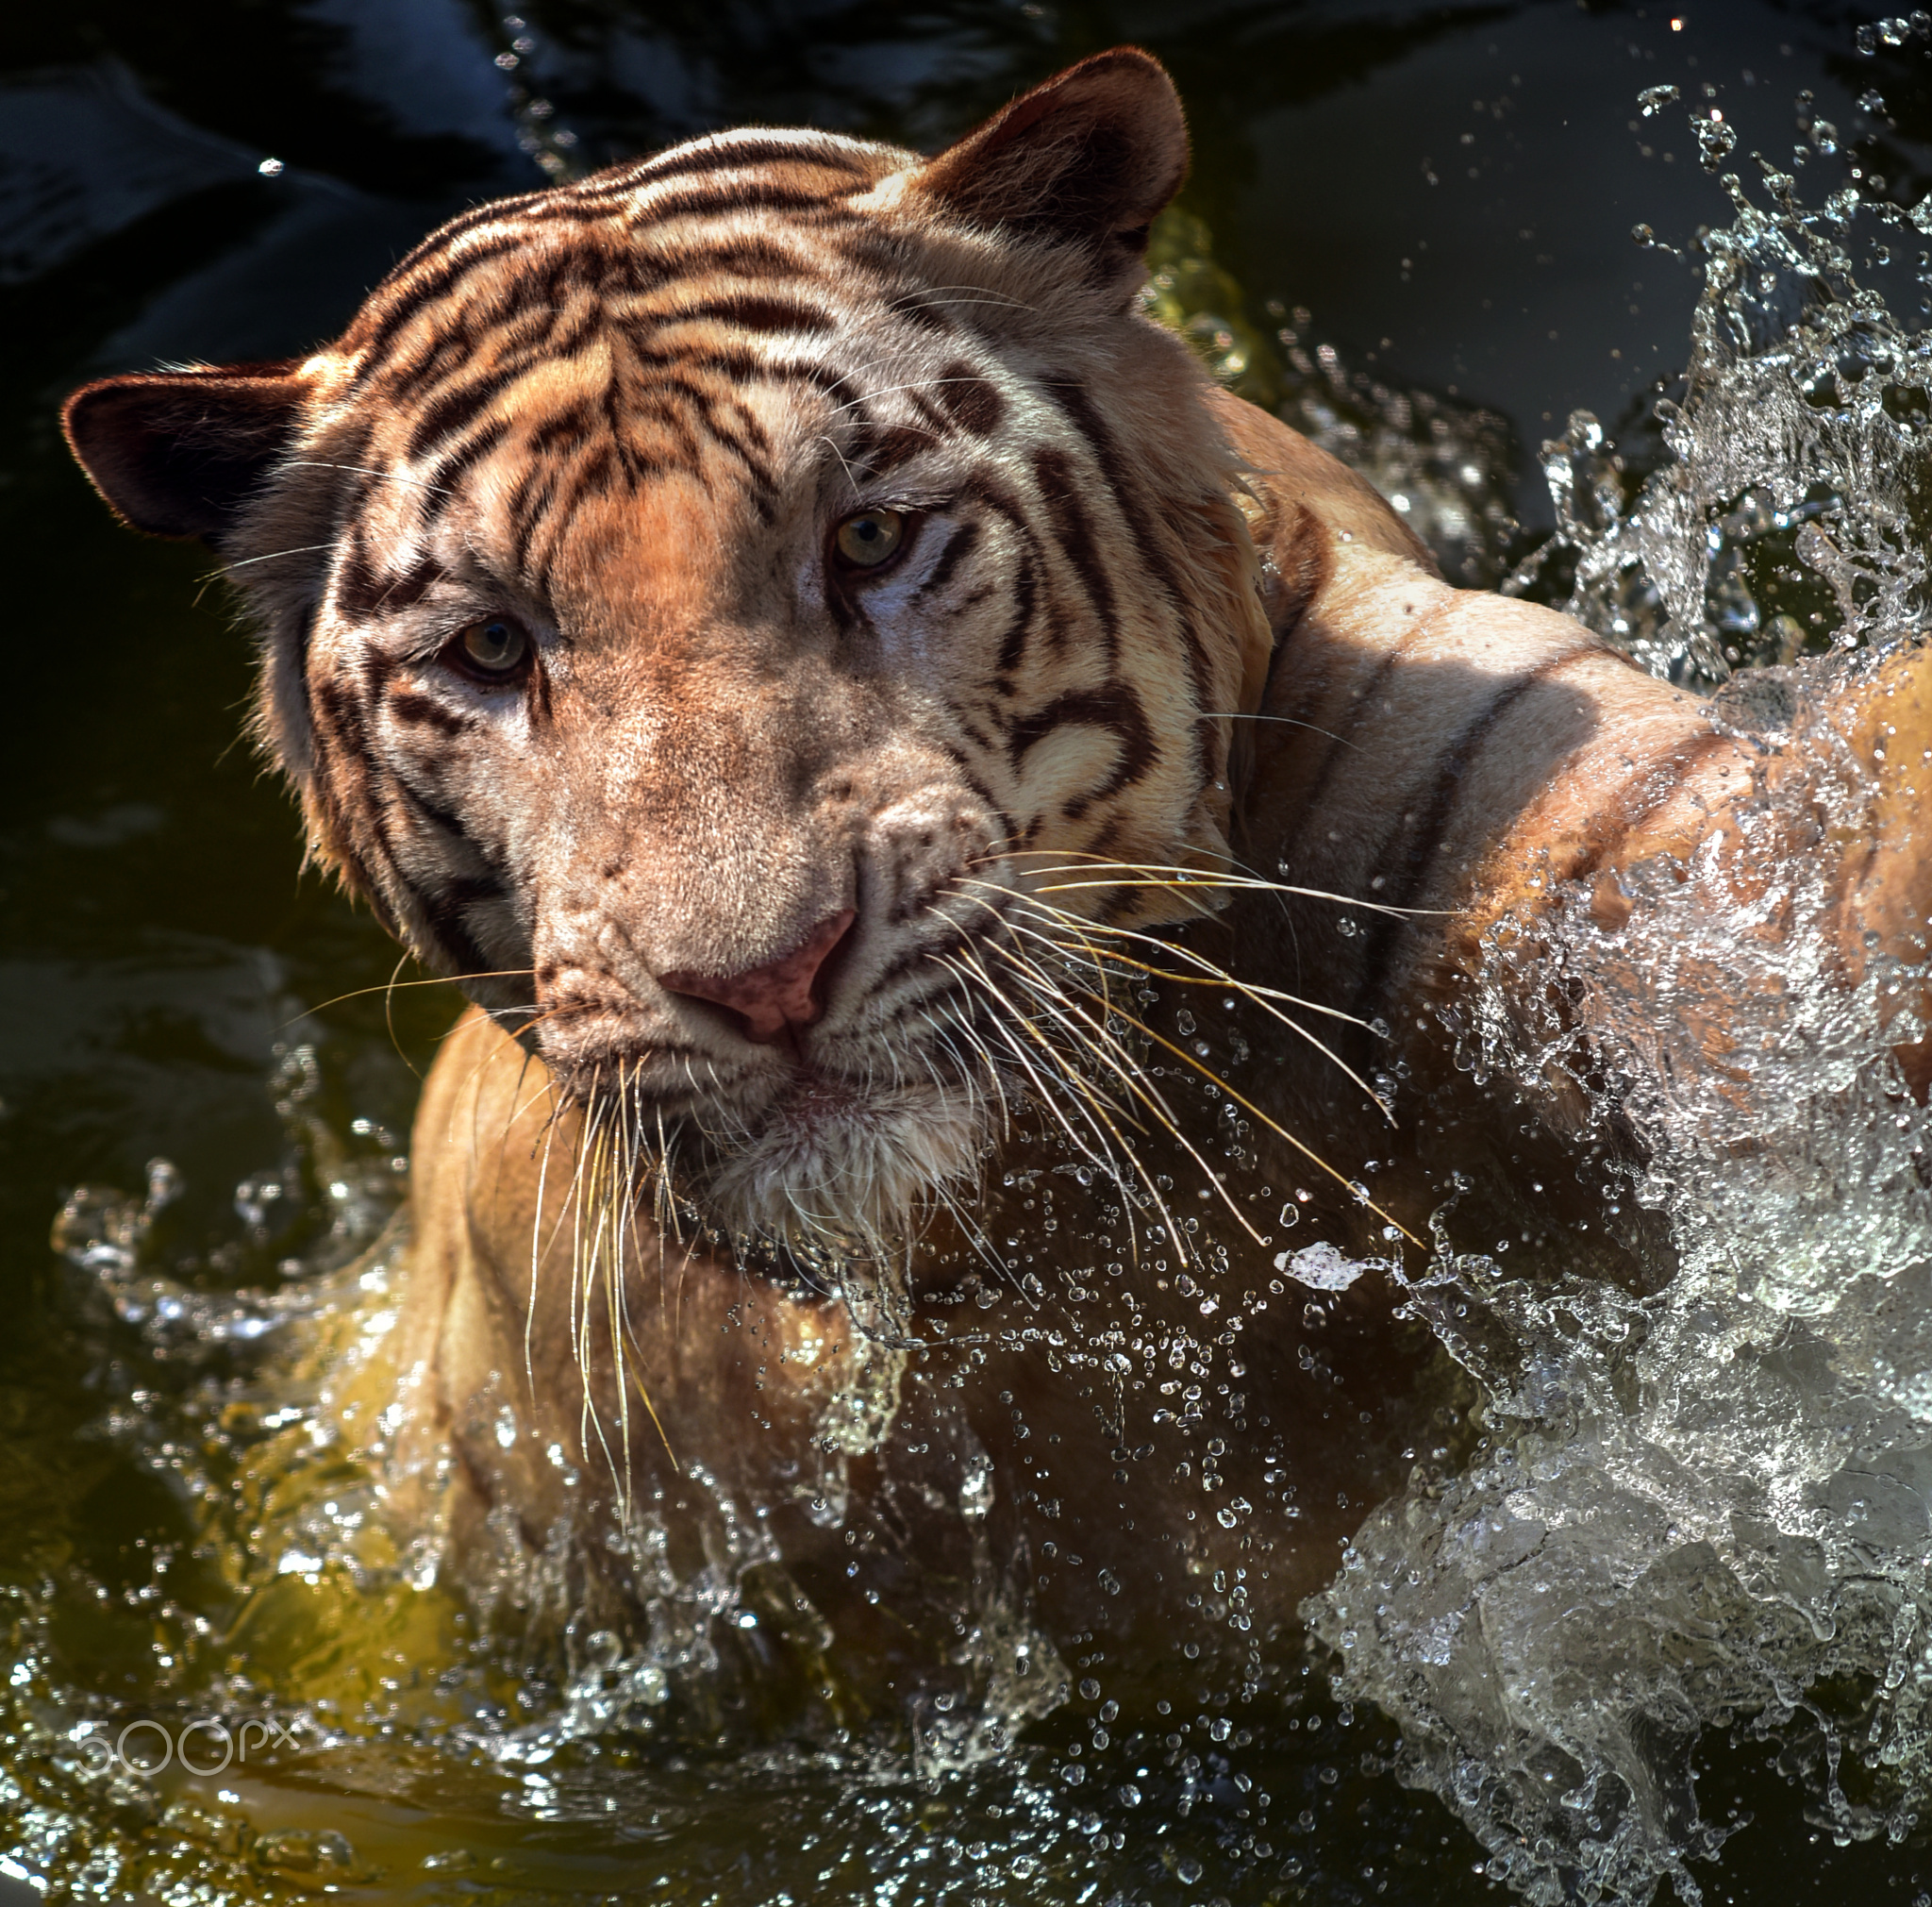tiger: (108, 84, 1742, 1442)
